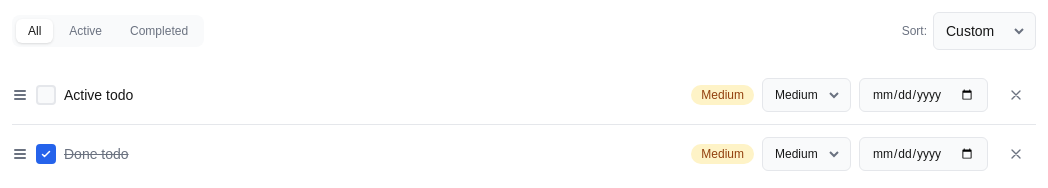
Test case: TodoFilter › shows all todos when All is selected (covers: AC-3)
# First click Active to filter, then back to All
What coordinates should you click on to do the following:
click the button with aria-label "Show active todos"
I would click on:
 (86, 31)
Its box is [57,19,114,43].
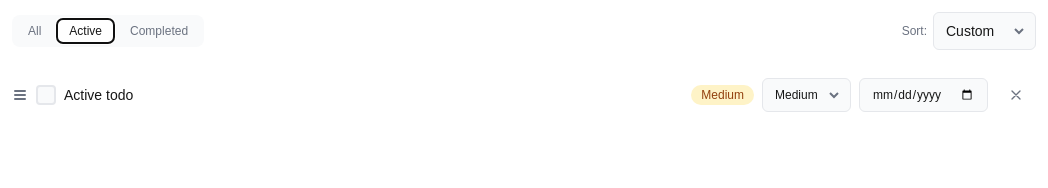
What coordinates should you click on to do the following:
click the button with aria-label "Show all todos"
I would click on:
 (35, 31)
Its box is [16,19,53,43].
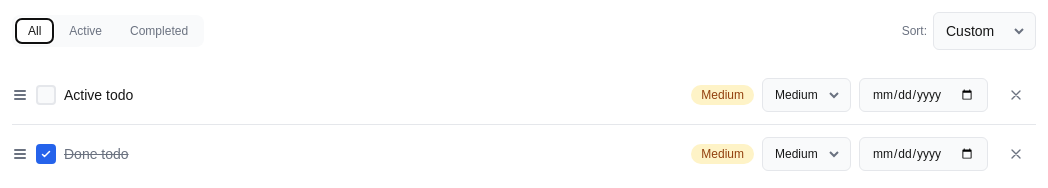
expect the text "Active todo" is shown: met, box [64,87,133,103]
expect the text "Done todo" is shown: met, box [64,146,129,162]
